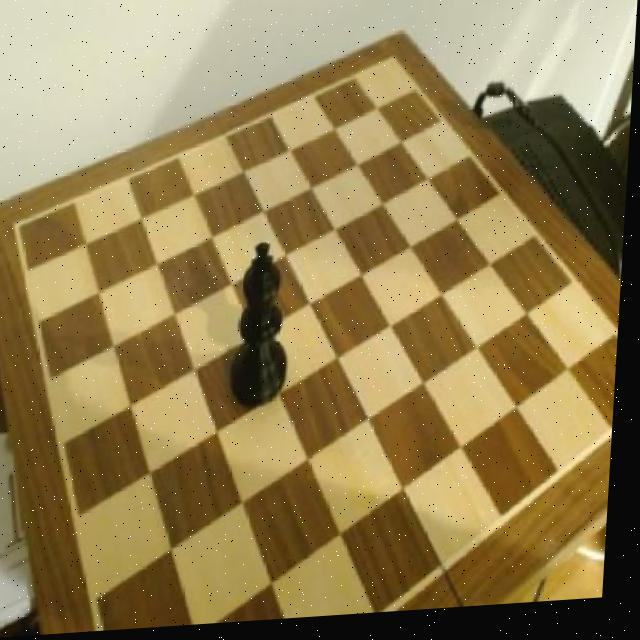black-bishop: (236, 244, 303, 411)
